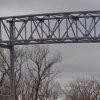Tree: (20, 50, 80, 100)
